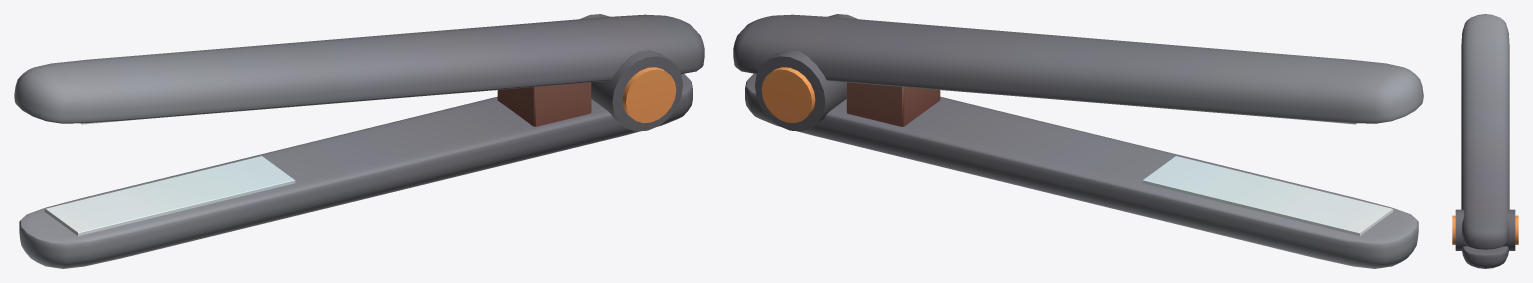
Rendered from Hair_Ironing.fbx.
3 views of the same model, side by side, from view 1: azimuth 30°, elevation 25°; view 2: azimuth 150°, elevation 25°; view 3: azimuth 270°, elevation 25° (orthographic). The views are drawn at different scales.
Parts seen in each view (by area): view 1: Hair_Ironing; view 2: Hair_Ironing; view 3: Hair_Ironing.
Boxes of the visible parts, x1=… form: Hair_Ironing: x1=14, y1=14, x2=704, y2=268; Hair_Ironing: x1=733, y1=14, x2=1423, y2=268; Hair_Ironing: x1=1452, y1=14, x2=1518, y2=268.
Bounding box in the file's own units: 6.36 × 1.73 × 1.05.
